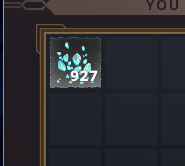ethereal dust: (49, 36, 103, 89)
